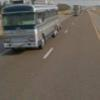buses: (1, 4, 62, 50)
